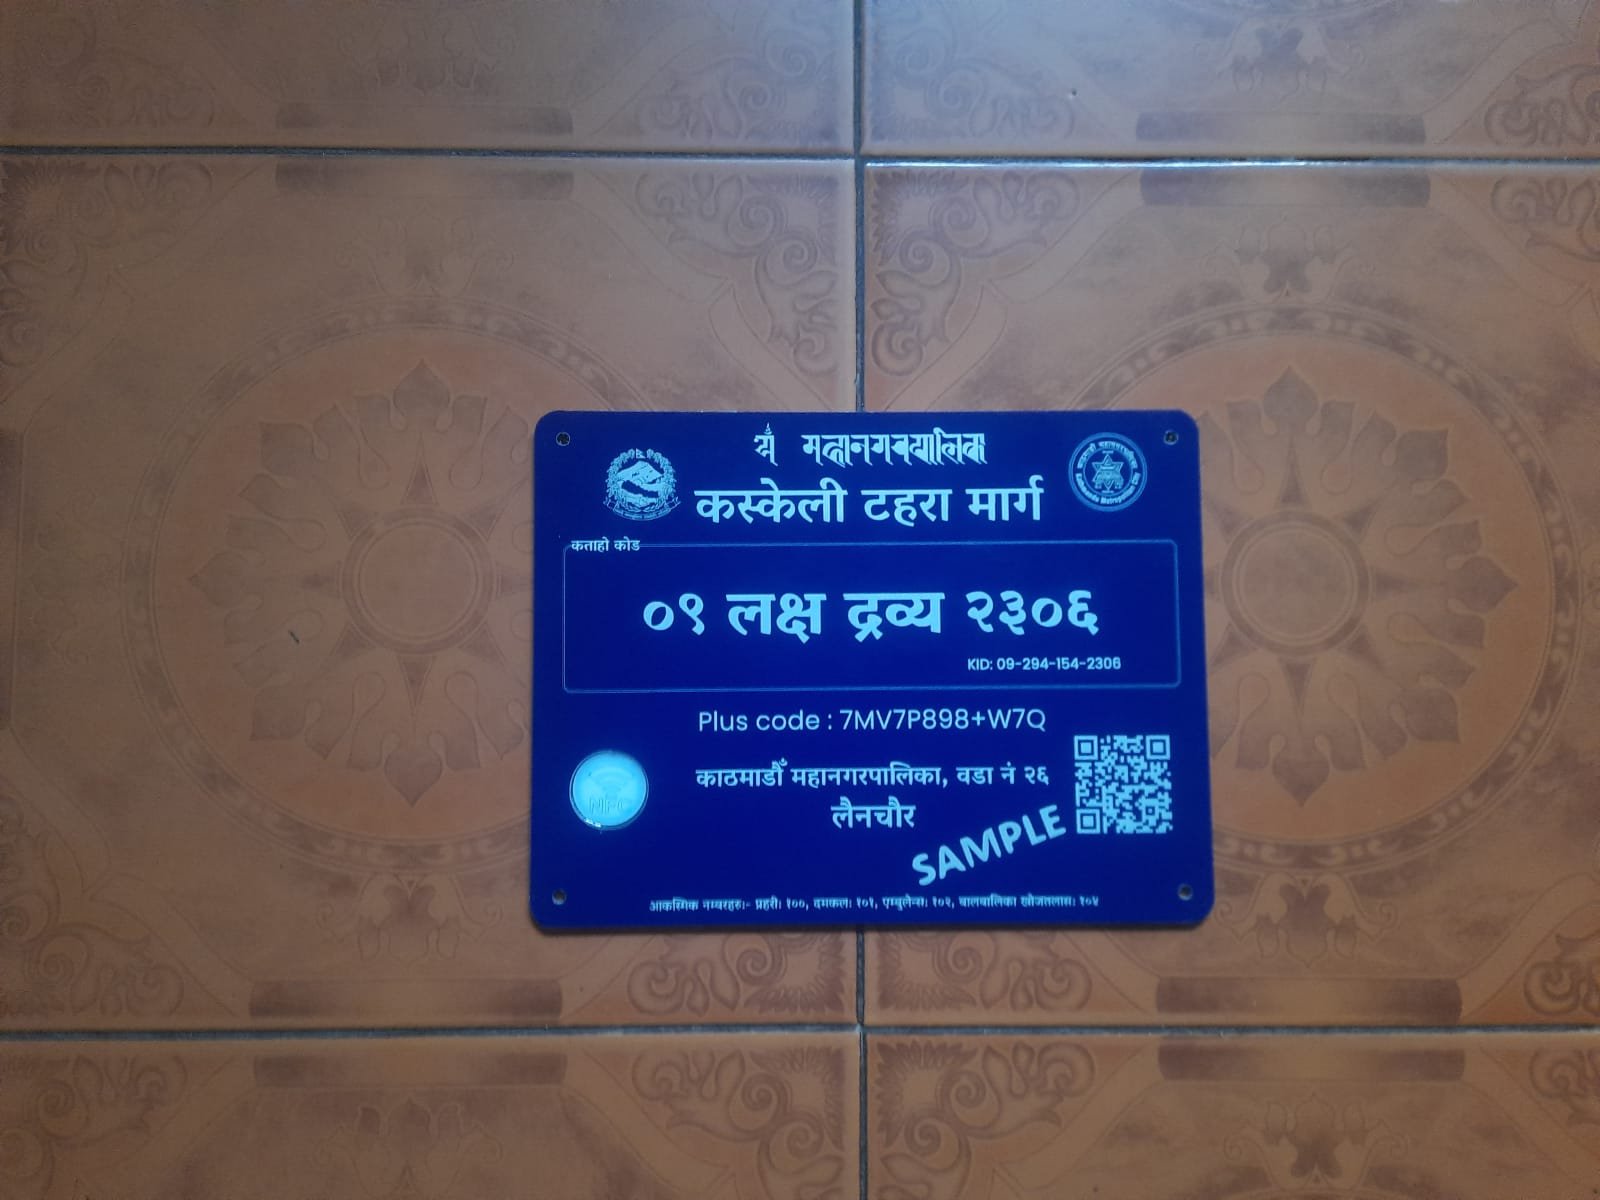Plate: (525, 399, 1226, 936)
